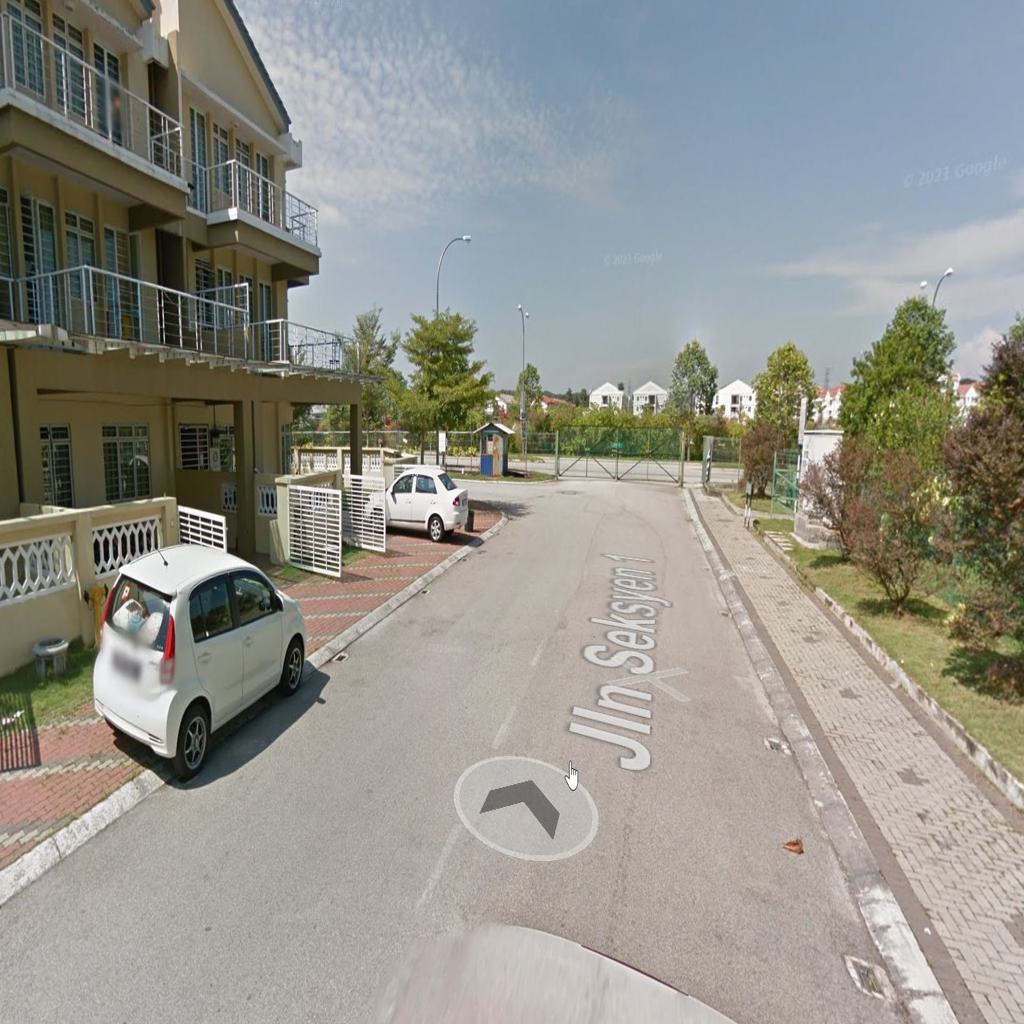Junction: (460, 454, 563, 521)
